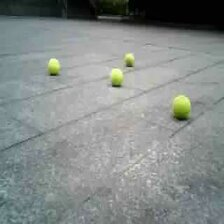tennis: (172, 95, 190, 118), (46, 57, 60, 74), (111, 69, 123, 85), (124, 53, 135, 67)
